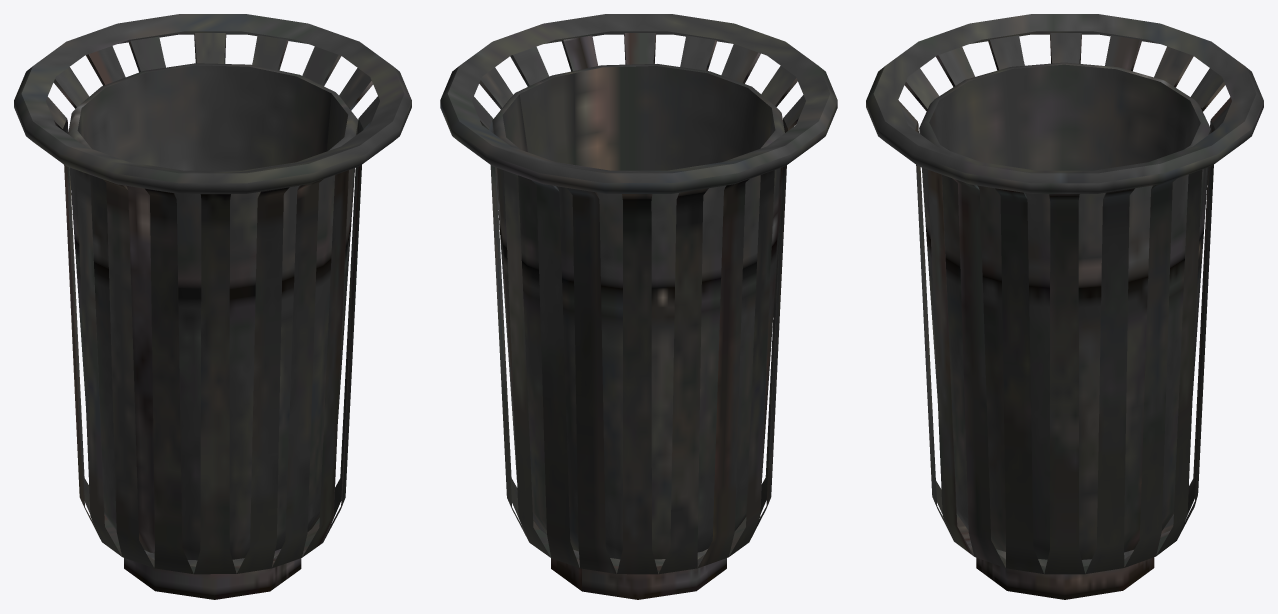
Rendered from TrashCan.fbx.
3 views of the same model, side by side, from view 1: azimuth 30°, elevation 25°; view 2: azimuth 150°, elevation 25°; view 3: azimuth 270°, elevation 25° (orthographic).
Parts seen in each view (by area): view 1: TrashCan.001; view 2: TrashCan.001; view 3: TrashCan.001.
Boxes of the visible parts, left/top/right/bottom form: TrashCan.001: left=14, top=14, right=411, bottom=599; TrashCan.001: left=440, top=14, right=837, bottom=599; TrashCan.001: left=866, top=14, right=1263, bottom=599.
Bounding box in the file's own units: 0.6862 × 0.9054 × 0.6968.
Materials: 1 (1 with a texture image).
